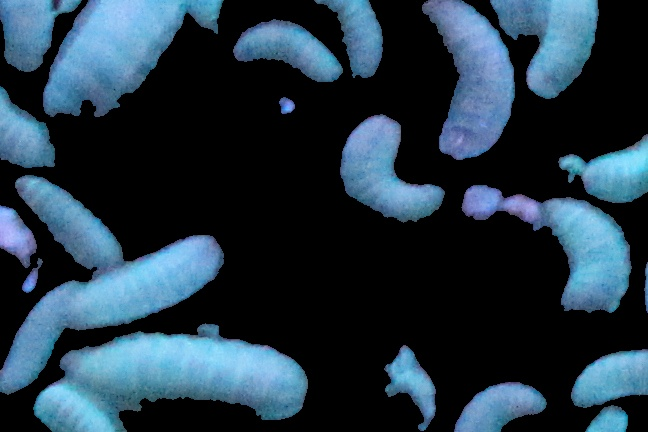larvae: (62, 333, 306, 430), (40, 1, 189, 116), (425, 1, 518, 162), (74, 233, 225, 328), (339, 113, 443, 223), (540, 196, 635, 313), (13, 177, 121, 272), (1, 284, 82, 399), (528, 1, 603, 96), (235, 20, 347, 81), (311, 1, 384, 74), (458, 378, 548, 432), (577, 137, 648, 205), (27, 385, 127, 432), (568, 350, 648, 407), (1, 88, 57, 169), (1, 1, 55, 72)
